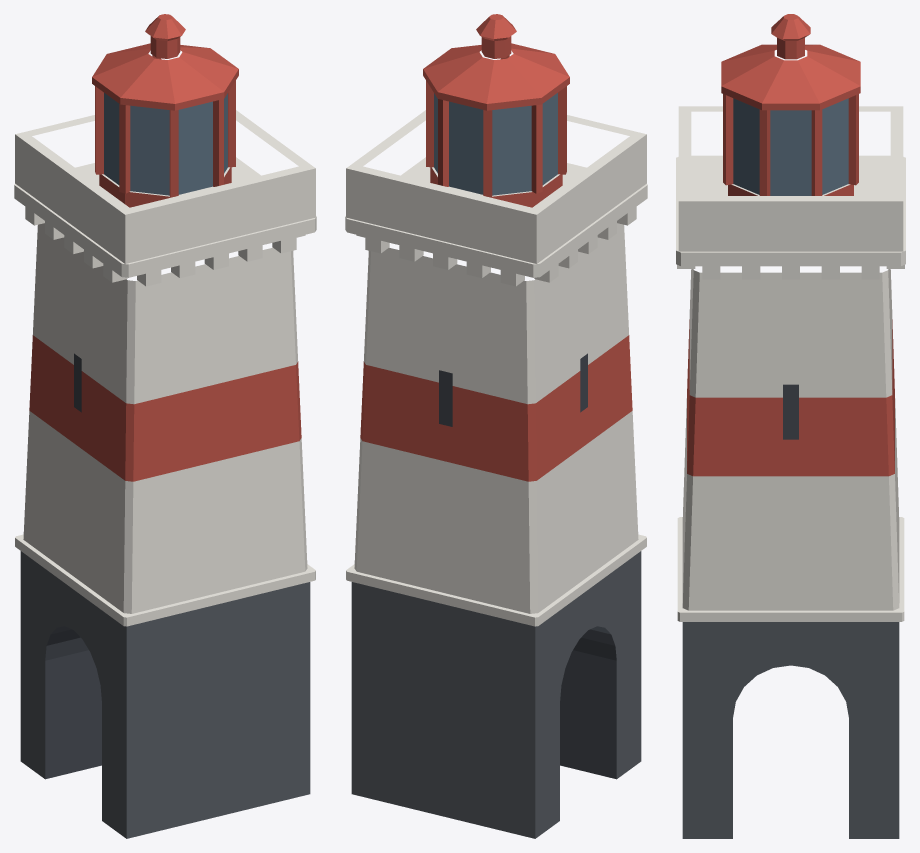
The model's file is van-brockton-point-lighthouse.glb.
The picture shows the model from 3 angles, left to right: view 1: azimuth 30°, elevation 25°; view 2: azimuth 150°, elevation 25°; view 3: azimuth 270°, elevation 25°; orthographic projection. The views are drawn at different scales.
Parts seen in each view (by area): view 1: Brockton Point Lighthouse; view 2: Brockton Point Lighthouse; view 3: Brockton Point Lighthouse.
Boxes of the visible parts, x1=… form: Brockton Point Lighthouse: x1=14, y1=14, x2=316, y2=838; Brockton Point Lighthouse: x1=345, y1=14, x2=647, y2=838; Brockton Point Lighthouse: x1=676, y1=14, x2=905, y2=838.
Size of the model in its own units: 4.56 by 17 by 4.56.
